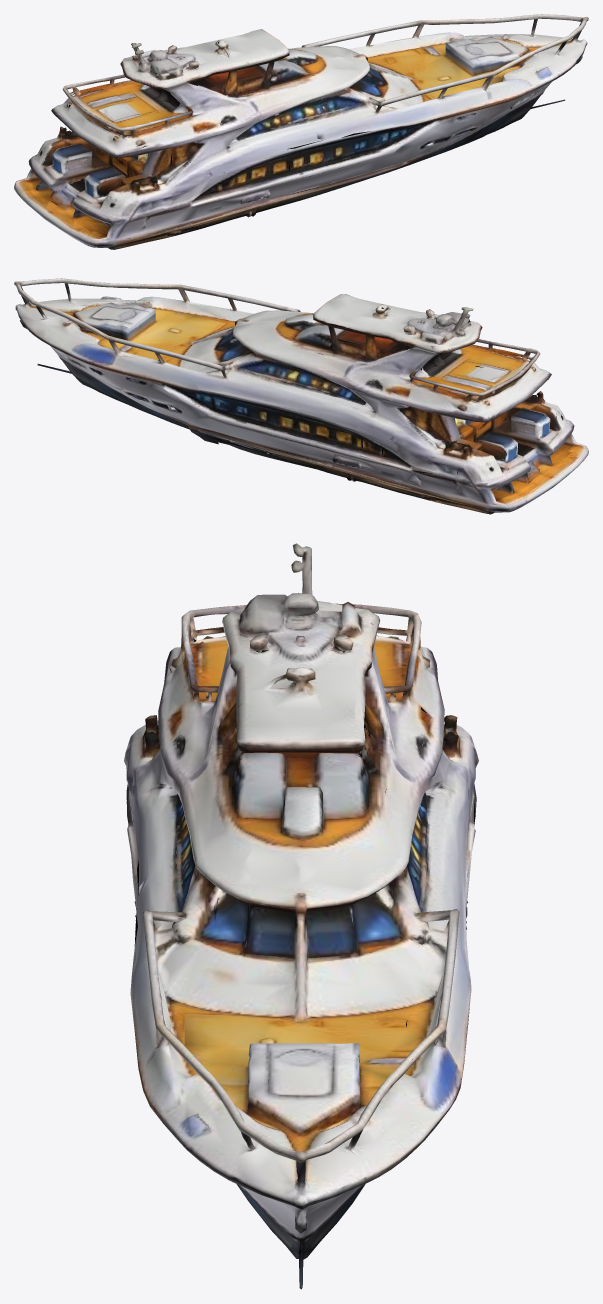
Rendered from yacht-b04.glb.
3 views of the same model, one above another, from view 1: azimuth 30°, elevation 25°; view 2: azimuth 150°, elevation 25°; view 3: azimuth 270°, elevation 25° (orthographic). The views are drawn at different scales.
Visible parts, largest first — view 1: LOW; view 2: LOW; view 3: LOW.
Part boxes in pixels (x1,y1,x2,y2): LOW: (14,14,588,249); LOW: (14,278,588,514); LOW: (124,543,478,1289).
Bounding box in the file's own units: 1 × 0.3011 × 0.2824.
1 material, 1 textured.
